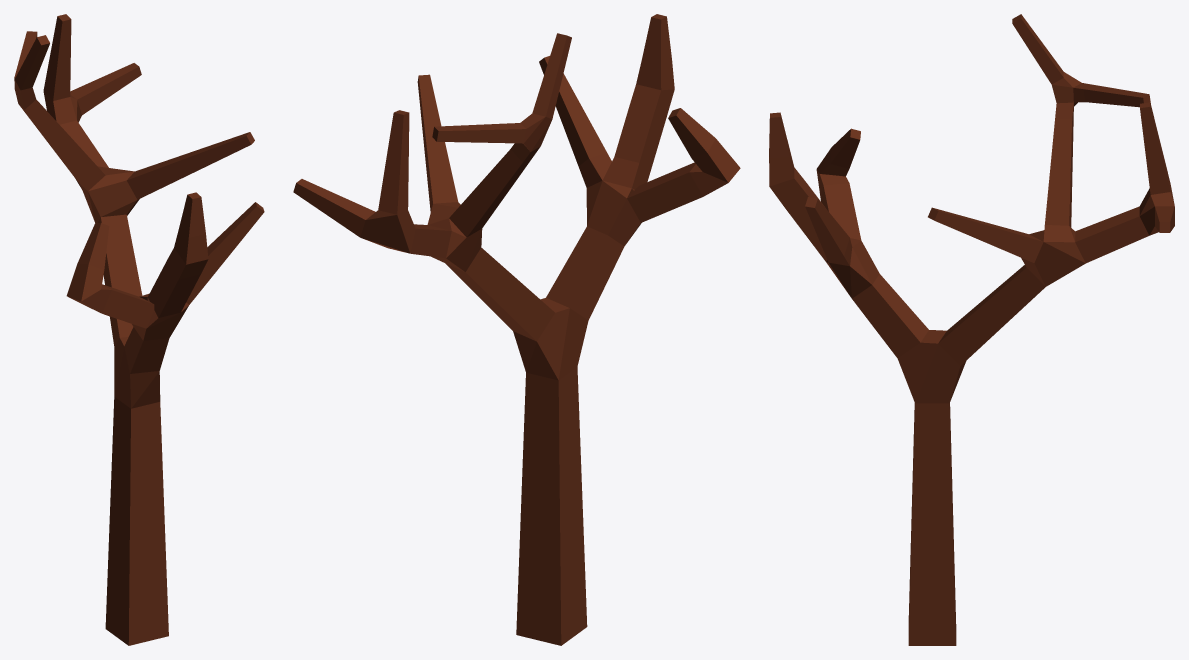
Rendered from Tree.fbx.
3 views of the same model, side by side, from view 1: azimuth 30°, elevation 25°; view 2: azimuth 150°, elevation 25°; view 3: azimuth 270°, elevation 25° (orthographic). The views are drawn at different scales.
Parts seen in each view (by area): view 1: Tree; view 2: Tree; view 3: Tree.
Boxes of the visible parts, x1=… form: Tree: x1=14, y1=14, x2=264, y2=645; Tree: x1=293, y1=14, x2=740, y2=645; Tree: x1=769, y1=14, x2=1174, y2=645.
Size of the model in its own units: 280 by 663 by 411.
